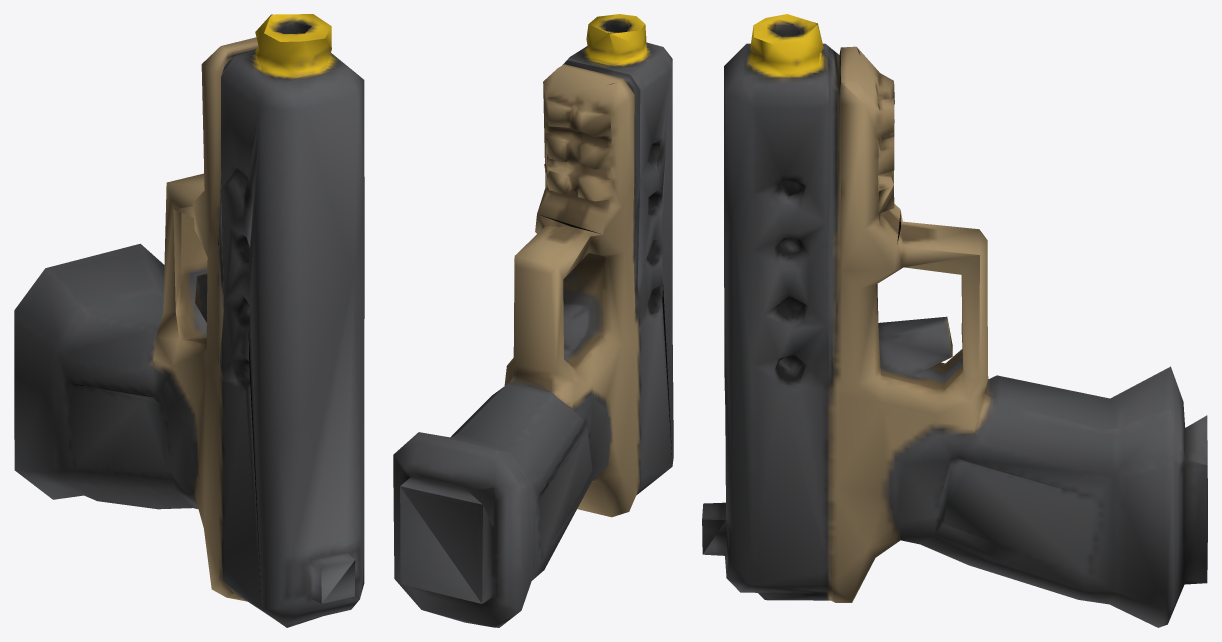
File: hawk50.glb
The picture shows the model from 3 angles, left to right: view 1: azimuth 30°, elevation 25°; view 2: azimuth 150°, elevation 25°; view 3: azimuth 270°, elevation 25°; orthographic projection. The views are drawn at different scales.
Visible parts, largest first — view 1: part_slide, hawk50; view 2: hawk50, part_slide; view 3: hawk50, part_slide.
Boxes of the visible parts, <box> form: part_slide: <box>221,14,364,627</box>; hawk50: <box>14,14,272,601</box>; hawk50: <box>393,33,640,627</box>; part_slide: <box>563,14,673,495</box>; hawk50: <box>815,22,1207,627</box>; part_slide: <box>702,14,828,600</box>.
Size of the model in its own units: 0.0777 by 0.2812 by 0.2217.
1 material, 1 textured.
